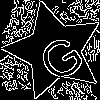G: (29, 25, 88, 85)
